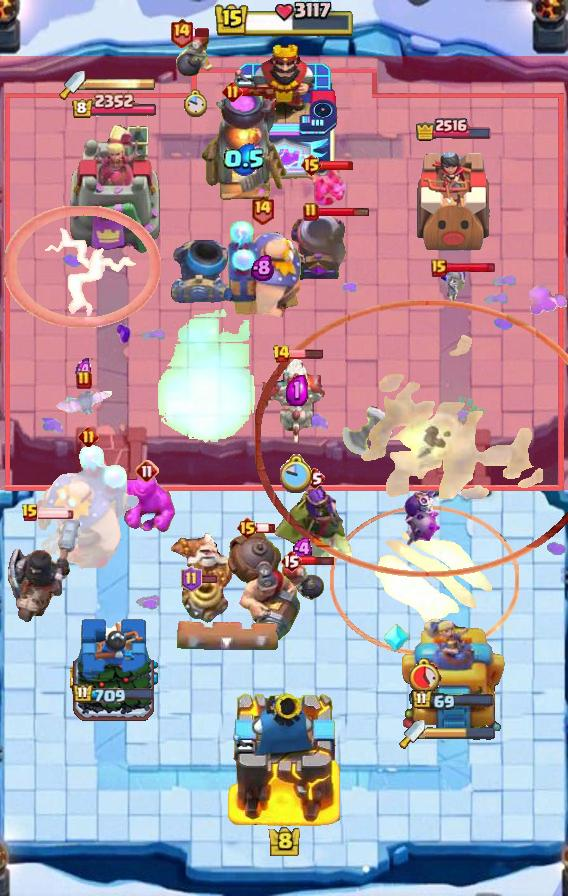bar: (67, 122, 161, 256), (402, 615, 507, 731)
barbarian: (54, 388, 114, 418)
barbarian-evolution: (3, 206, 161, 328)
barbarian-hut: (269, 484, 359, 558)
clock: (213, 0, 355, 40)
electro-spirit: (222, 143, 265, 176), (286, 375, 308, 406), (251, 254, 274, 281), (292, 538, 315, 560), (75, 358, 93, 382)
elixir: (406, 657, 442, 694), (280, 455, 314, 494), (183, 89, 207, 118)
elixir-collector: (164, 530, 236, 602)
emote: (445, 261, 496, 274), (318, 206, 371, 217), (300, 553, 335, 567), (37, 507, 75, 519), (288, 348, 324, 360), (240, 87, 275, 98), (320, 161, 354, 172), (256, 522, 276, 534), (191, 26, 211, 37), (198, 574, 217, 584)
goblin: (440, 266, 466, 304)
goblin-ball: (402, 490, 442, 548)
goblin-cage: (288, 213, 352, 283)
goblin-drill: (179, 577, 229, 625)
hunter: (200, 94, 288, 204)
ice-golem: (175, 28, 215, 76), (281, 559, 325, 601)
ice-wizard: (330, 505, 518, 654)
inferno-dragon: (4, 515, 86, 625)
king-tower: (226, 688, 342, 826), (230, 41, 338, 181)
king-tower-bar: (85, 77, 155, 91), (425, 727, 495, 741)
little-prince: (34, 444, 142, 570), (218, 219, 306, 319)
mega-knight: (154, 308, 257, 445)
mini-pekka: (261, 359, 333, 445)
minion: (174, 621, 282, 651)
musketeer: (169, 239, 229, 303)
pad_2: (383, 622, 411, 654)
queen-tower: (70, 616, 158, 731), (410, 144, 496, 255)
royal-delivery: (302, 163, 348, 209)
royal-ghost: (256, 299, 568, 576)
royal-giant: (341, 406, 399, 468)
selected: (70, 93, 157, 120), (414, 116, 492, 142), (411, 688, 495, 712), (72, 683, 156, 706)
text: (170, 16, 195, 47), (250, 195, 275, 225), (135, 459, 159, 483), (301, 153, 324, 177), (237, 516, 260, 540), (181, 566, 202, 592), (303, 466, 325, 490), (280, 549, 302, 573), (78, 425, 99, 447), (222, 82, 243, 103), (272, 344, 292, 364), (21, 503, 39, 523), (303, 202, 319, 222), (76, 370, 92, 390), (431, 259, 447, 277)
tornado: (119, 474, 175, 534)
wizard: (226, 531, 302, 649)
